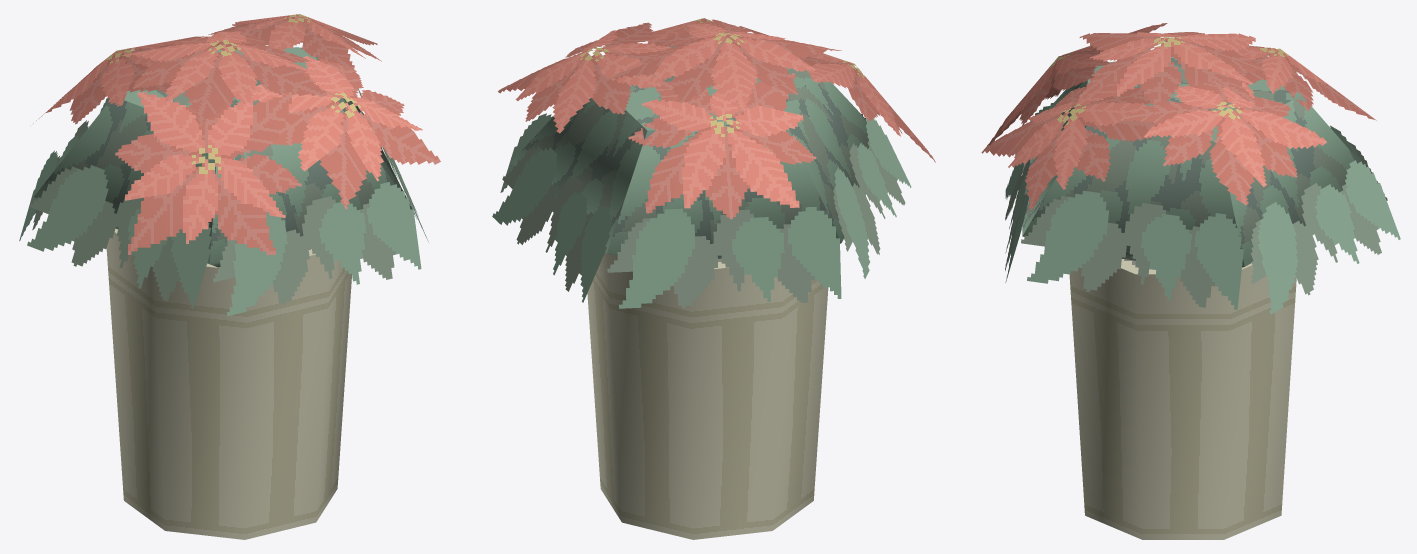
The model's file is 03d0_Flower_Pot.glb.
The picture shows the model from 3 angles, left to right: view 1: azimuth 30°, elevation 25°; view 2: azimuth 150°, elevation 25°; view 3: azimuth 270°, elevation 25°; orthographic projection.
Visible parts, largest first — view 1: part_0; view 2: part_0; view 3: part_0.
Boxes of the visible parts, x1,y1,x2,y2 form: part_0: (19, 14, 440, 539); part_0: (492, 18, 935, 539); part_0: (981, 23, 1400, 539).
Size of the model in its own units: 0.4595 by 0.5412 by 0.4657.
1 material, 1 textured.
